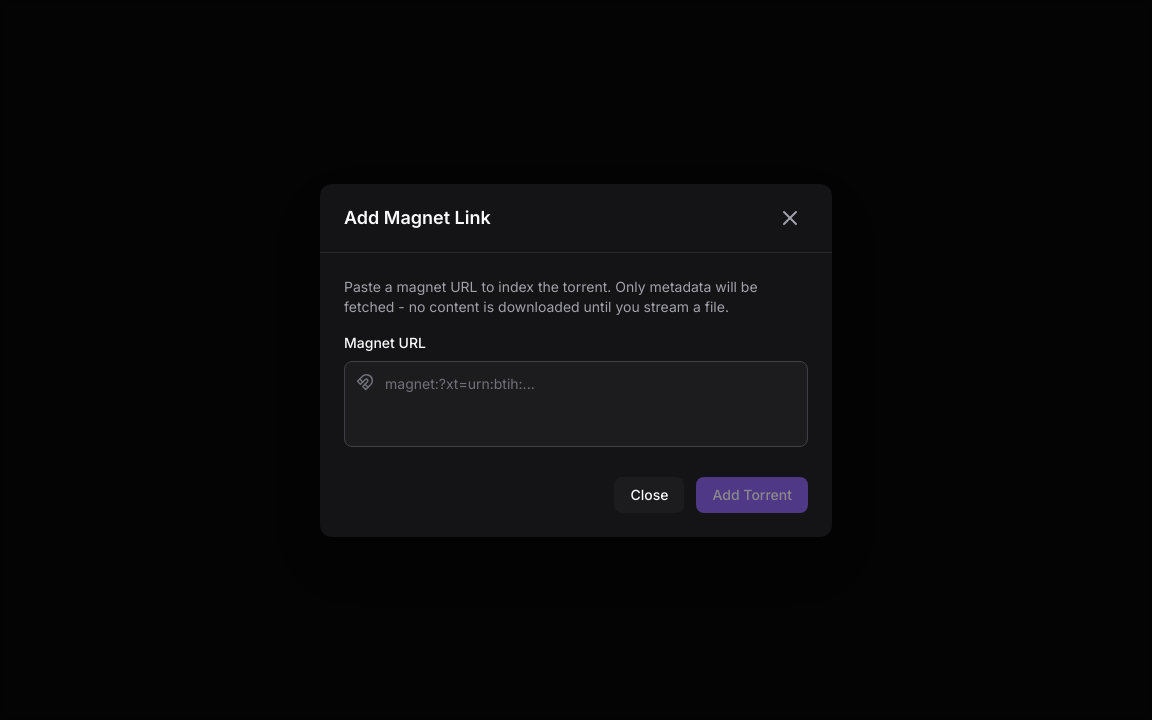
Test: AddMagnetModal › should show validation error for invalid magnet URL
Type "not-a-magnet-url" into the text box labelled "Magnet URL". click: (576, 404)
box: left=344, top=360, right=808, bottom=446
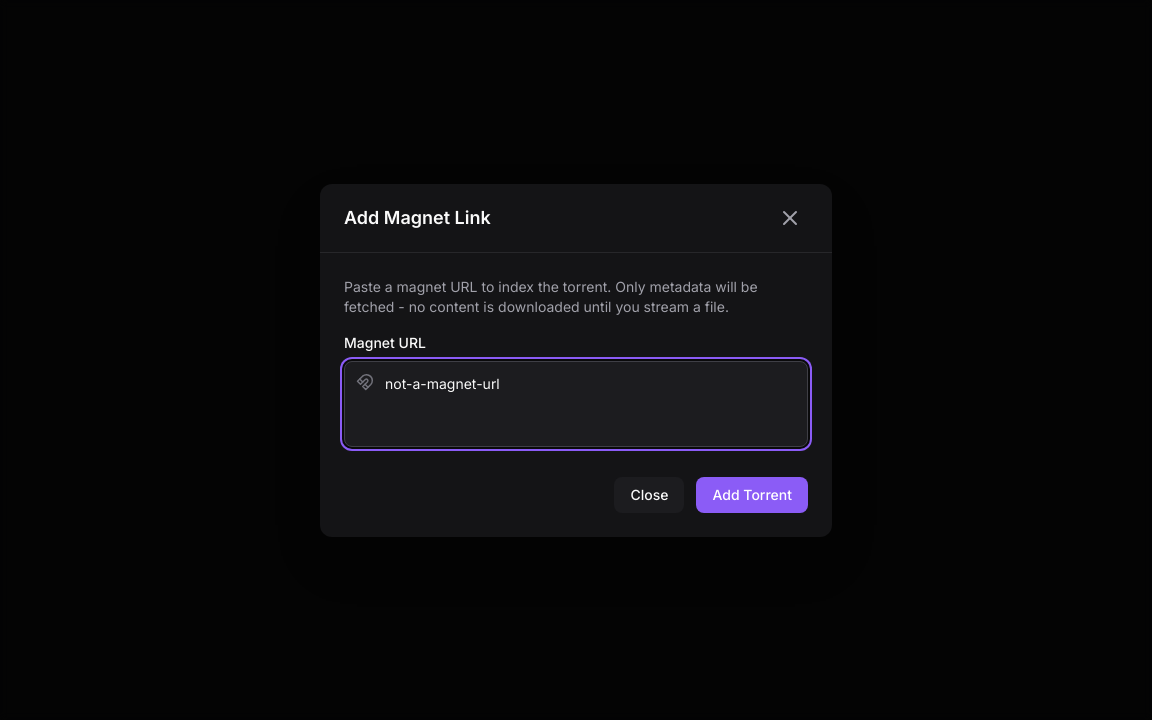
Click the button "Add Torrent". click: (752, 494)
box: left=696, top=476, right=808, bottom=512
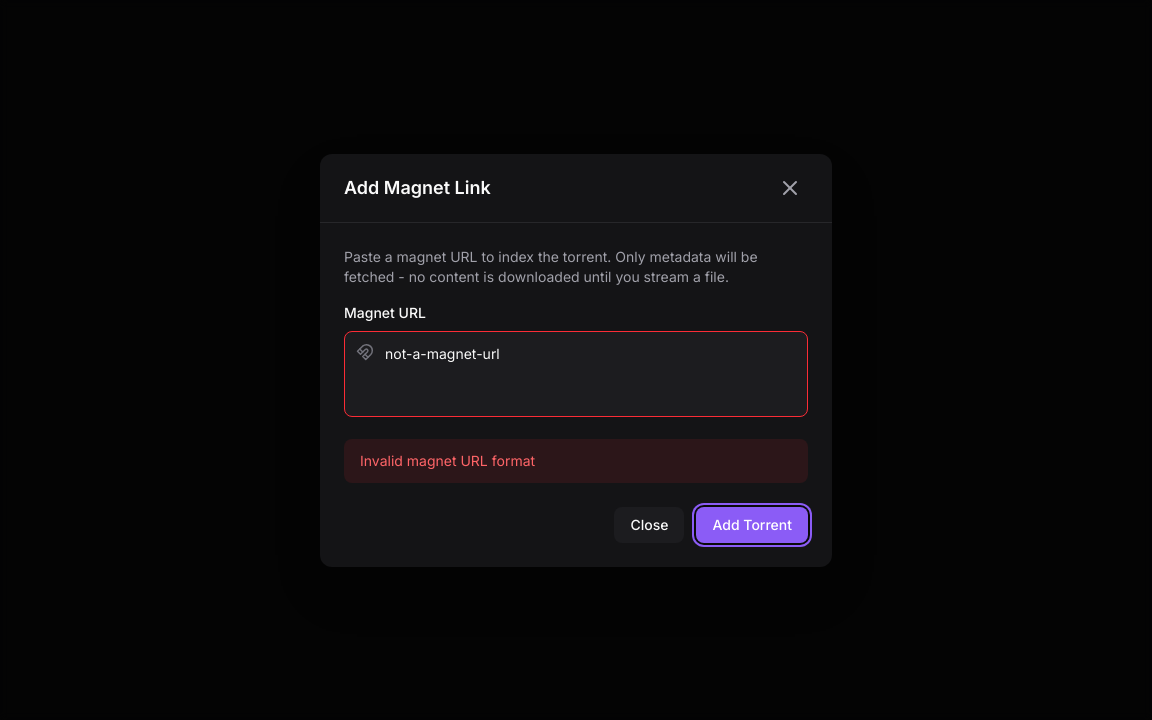
expect the text "Invalid magnet URL format" is shown: met, box left=344, top=438, right=808, bottom=482
